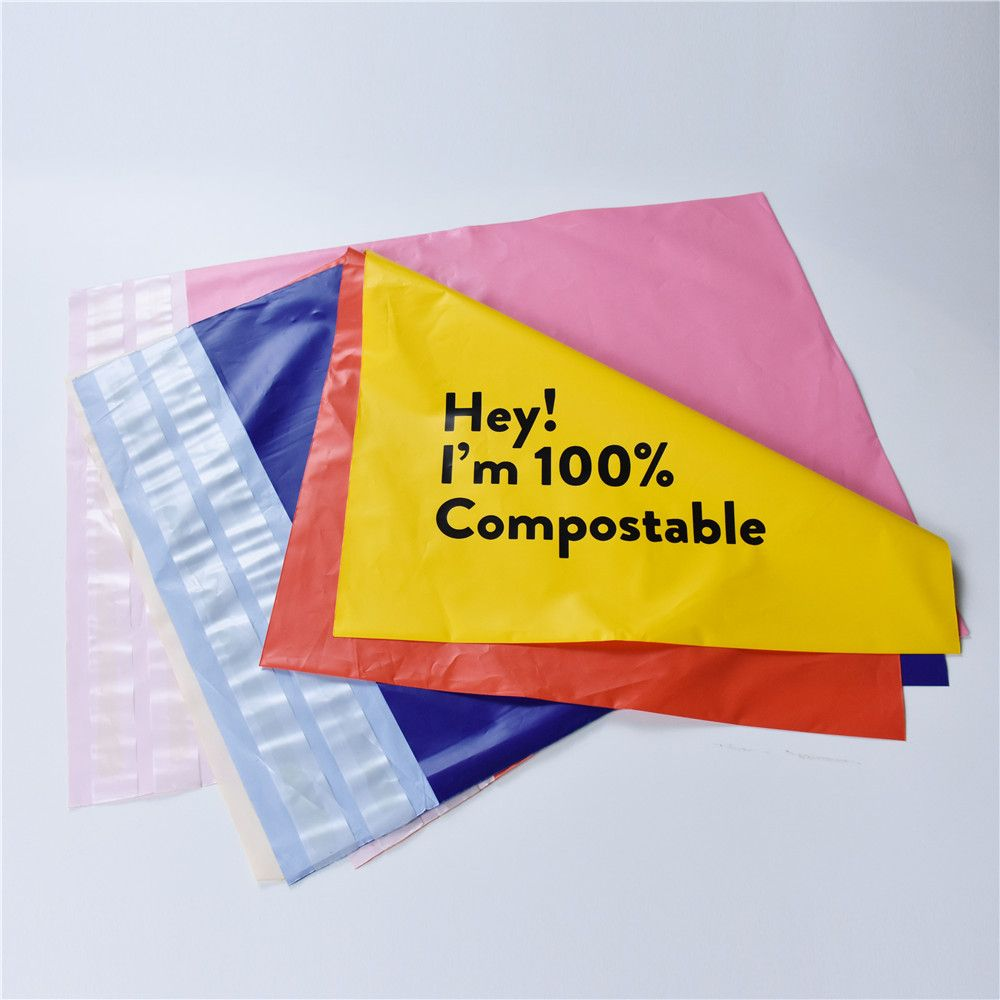Parcel: (67, 194, 964, 883)
